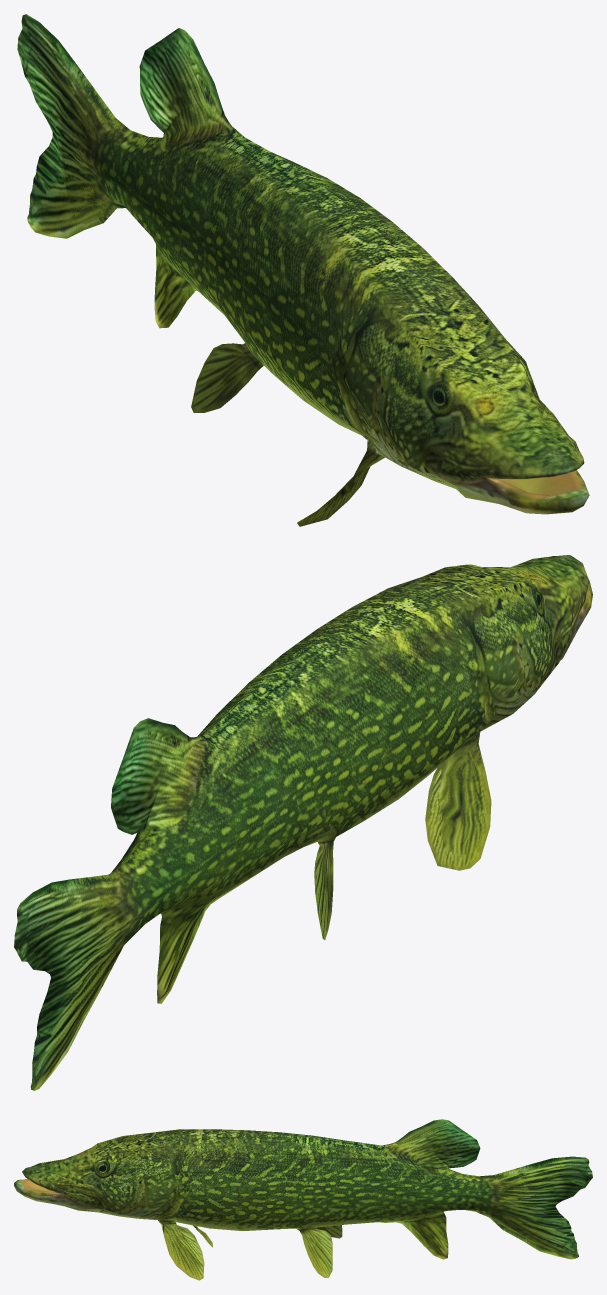
File: pike.glb
The picture shows the model from 3 angles, top to bottom: view 1: azimuth 30°, elevation 25°; view 2: azimuth 150°, elevation 25°; view 3: azimuth 270°, elevation 25°; orthographic projection. The views are drawn at different scales.
Visible parts, largest first — view 1: tripo_node_b1e6233e-6d3e-4e22-8724-c73159c34658; view 2: tripo_node_b1e6233e-6d3e-4e22-8724-c73159c34658; view 3: tripo_node_b1e6233e-6d3e-4e22-8724-c73159c34658.
Boxes of the visible parts, <box> form: tripo_node_b1e6233e-6d3e-4e22-8724-c73159c34658: <box>17,14,589,526</box>; tripo_node_b1e6233e-6d3e-4e22-8724-c73159c34658: <box>14,555,592,1090</box>; tripo_node_b1e6233e-6d3e-4e22-8724-c73159c34658: <box>14,1119,592,1280</box>.
Bounding box in the file's own units: 0.2017 × 0.2856 × 0.9995.
1 material, 1 textured.
